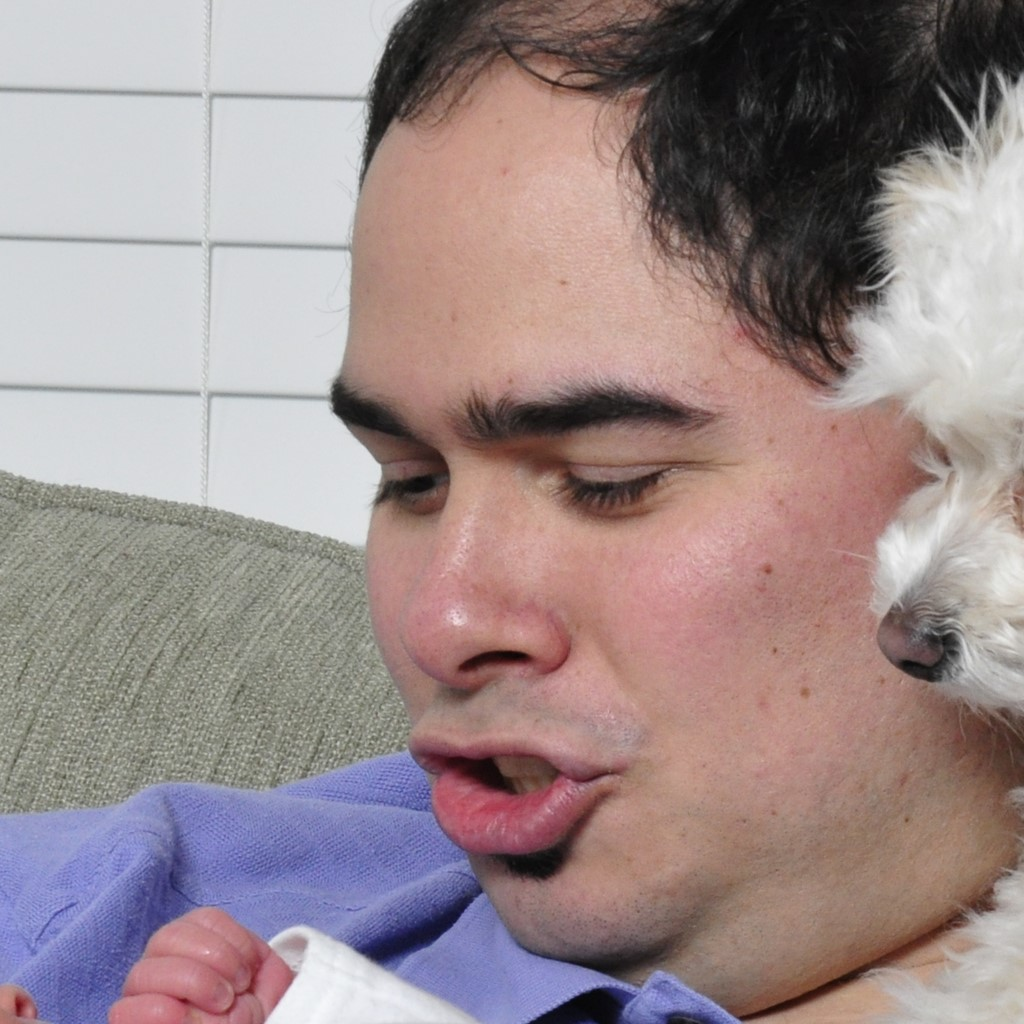sin_mascara: (328, 56, 956, 986)
